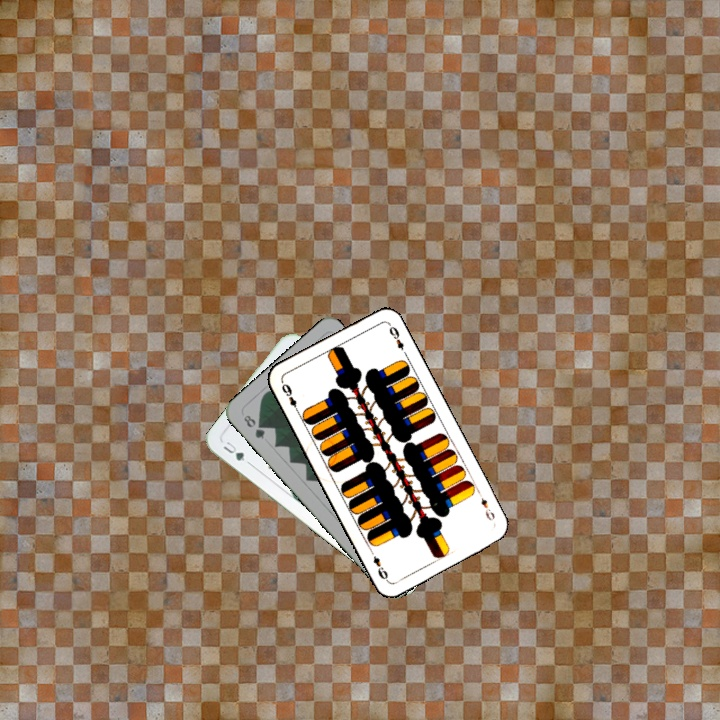E9: (277, 380, 302, 416), (476, 493, 497, 523)
G8: (239, 411, 268, 442)
GU: (219, 437, 247, 464)
